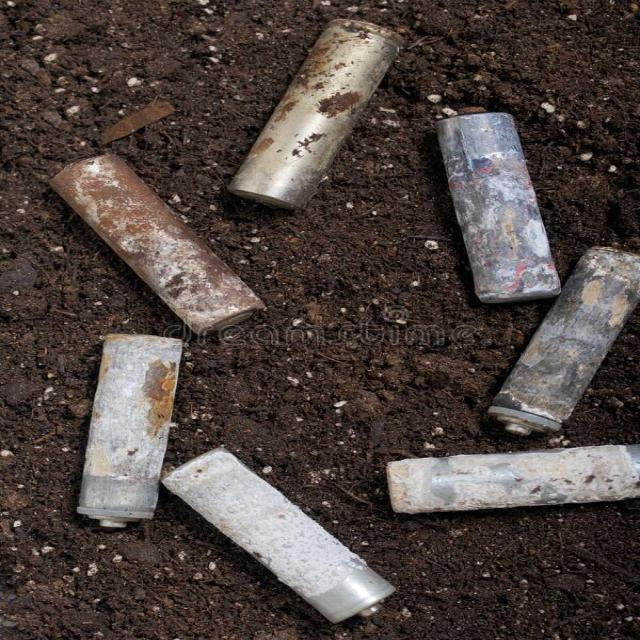Hazard: (82, 328, 394, 619), (68, 158, 241, 323), (257, 24, 418, 198), (484, 247, 640, 425), (394, 436, 640, 510), (457, 118, 560, 288)
